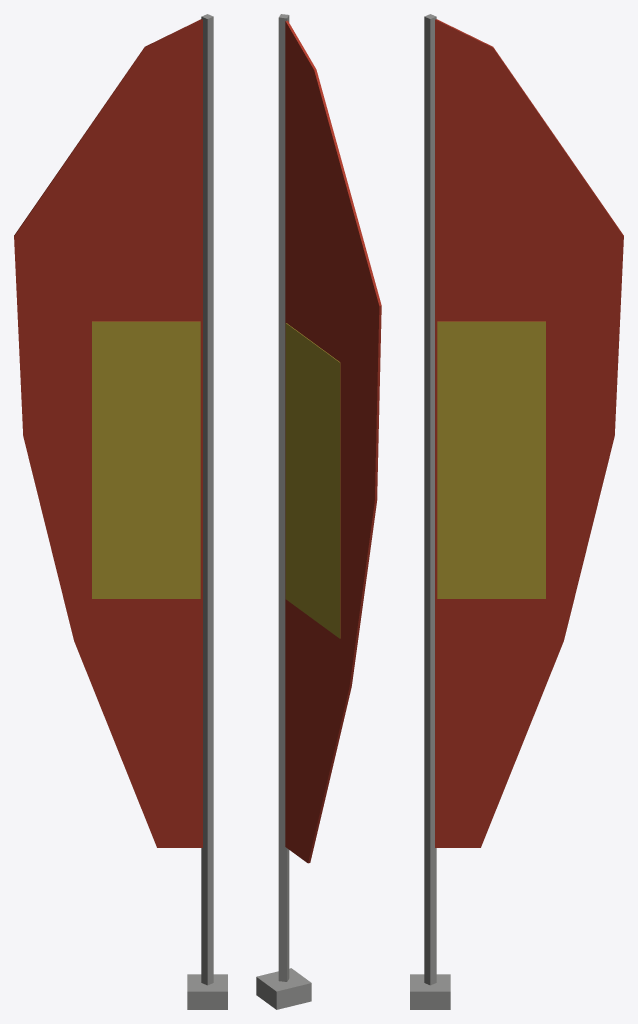
Rendered from SM_Prop_road_flag_0_LOD1.glb.
3 renders of one model, left to right at view 1: azimuth 90°, elevation 25°; view 2: azimuth 210°, elevation 25°; view 3: azimuth 270°, elevation 25°, orthographic.
Parts seen in each view (by area): view 1: SM_Prop_road_flag_0_LOD1; view 2: SM_Prop_road_flag_0_LOD1; view 3: SM_Prop_road_flag_0_LOD1.
Part boxes in pixels (x1,y1,x2,y2): SM_Prop_road_flag_0_LOD1: (14,14,227,1009); SM_Prop_road_flag_0_LOD1: (256,14,381,1009); SM_Prop_road_flag_0_LOD1: (410,14,623,1009).
Size of the model in its own units: 0.12 by 3.2 by 0.63.
